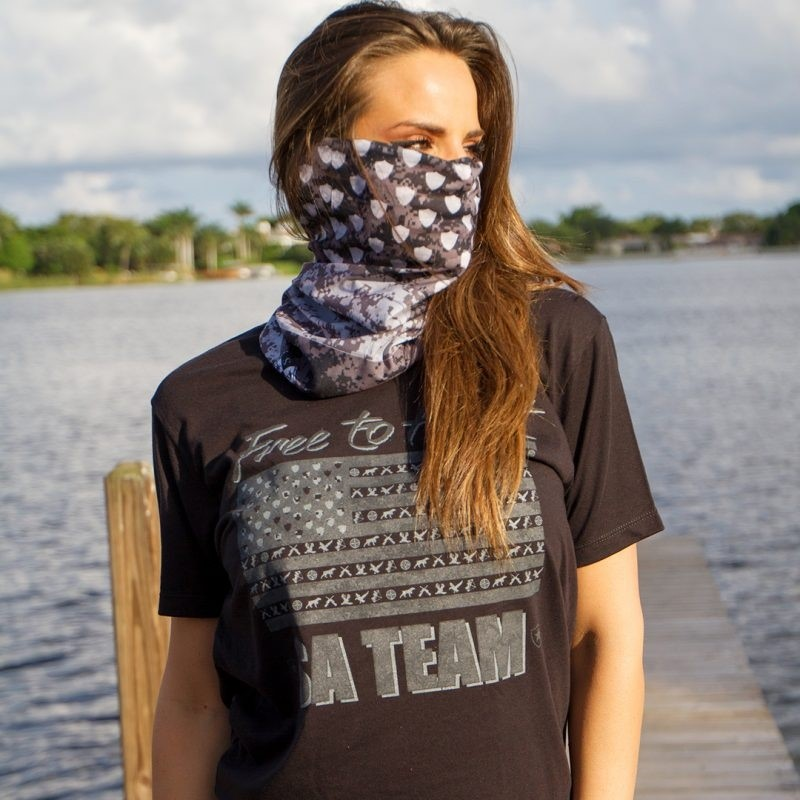face_with_mask: (281, 6, 501, 281)
